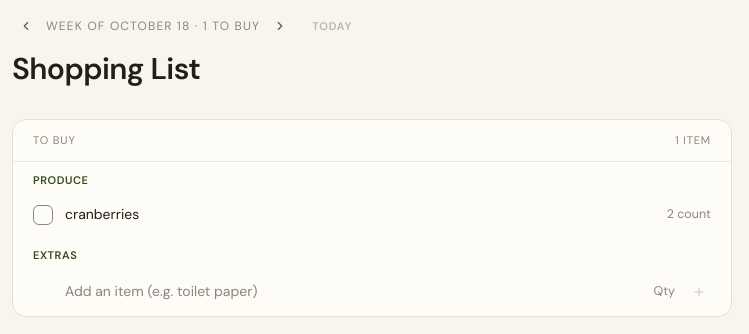
Test: ShoppingList week switching › never shows the previous week's items under the new week's header
This screenshot has width=749, height=334.
Check: the text "cranberries" is shown, box [65,205,139,223]
Click the button named "Next week". click: (280, 26)
box: [266,12,294,40]
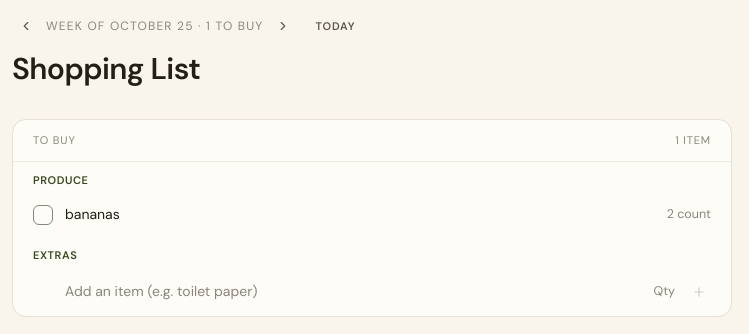
Check: the text "bananas" is shown, box [65,205,120,223]
Check: the text "cranberries" is gone
